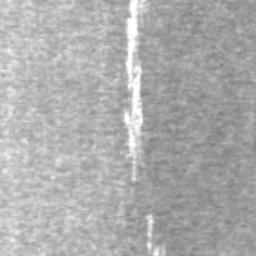White rust: (123, 0, 144, 183), (144, 212, 166, 256)
